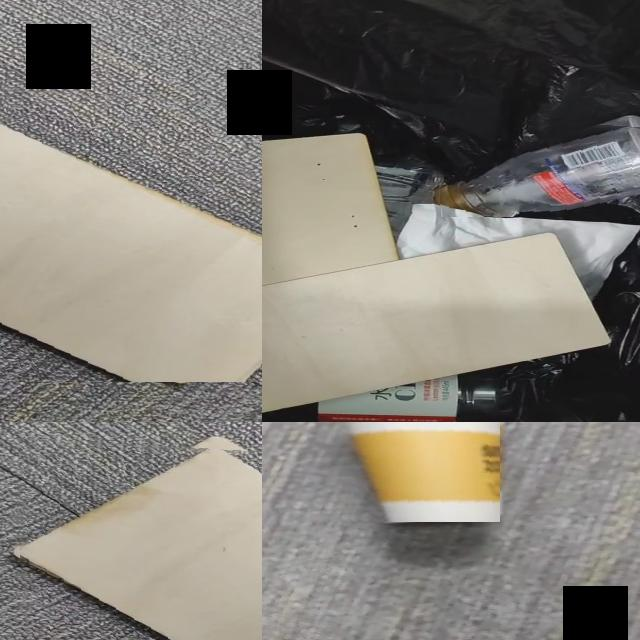bottle: (438, 125, 640, 217), (263, 372, 516, 422)
carton: (262, 134, 608, 412), (0, 121, 262, 382), (19, 447, 262, 640)
dixie_cup: (347, 422, 500, 522)
paper: (398, 204, 638, 298)
